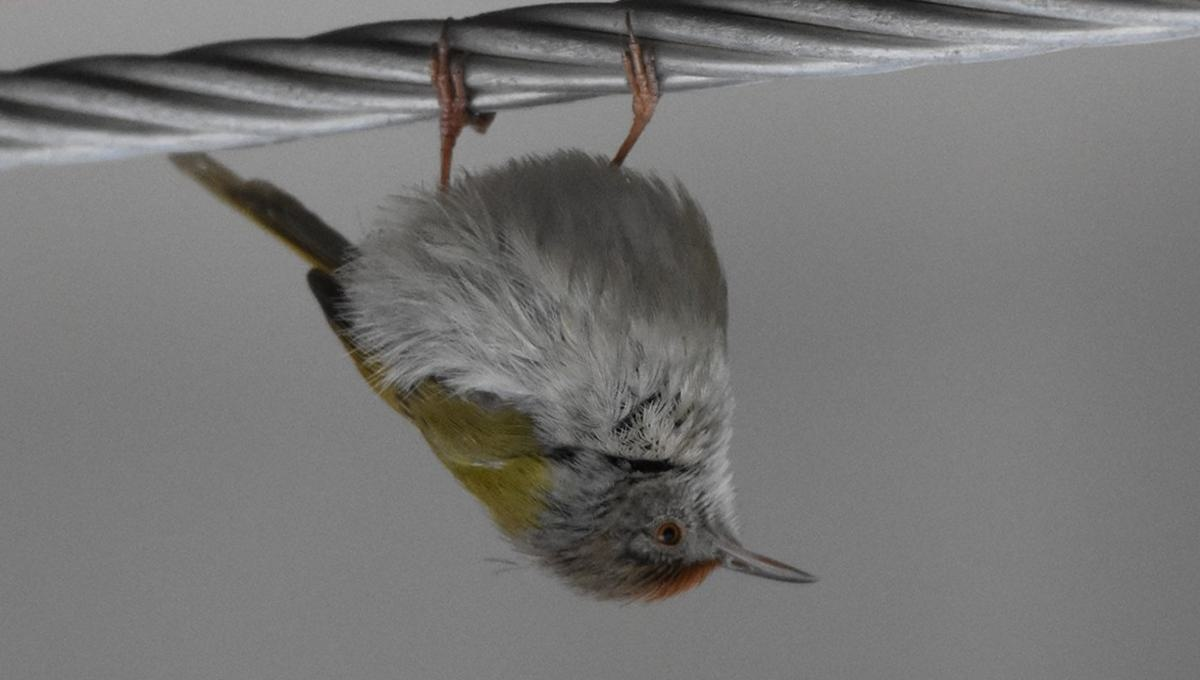tailorbird: (106, 80, 809, 617)
